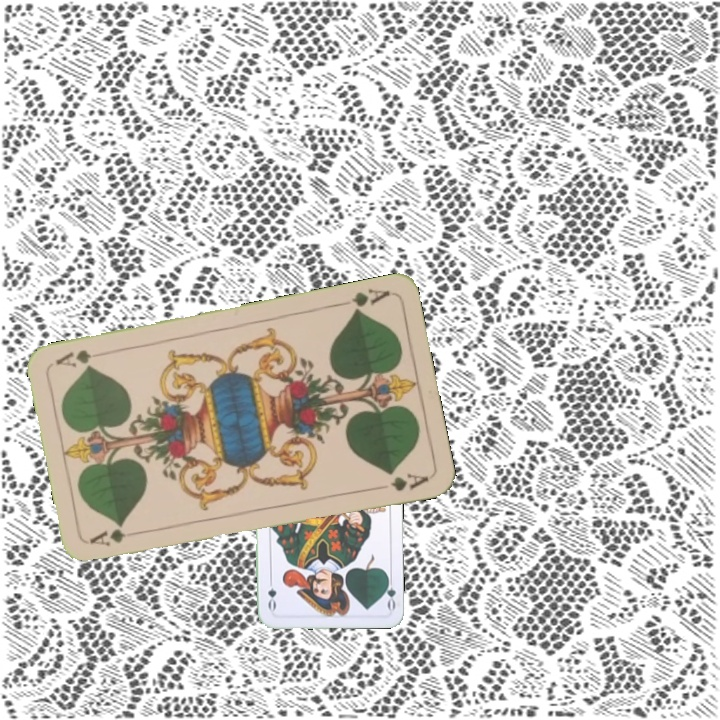GA: (334, 285, 393, 316), (86, 525, 145, 549)
GO: (380, 571, 398, 612)
